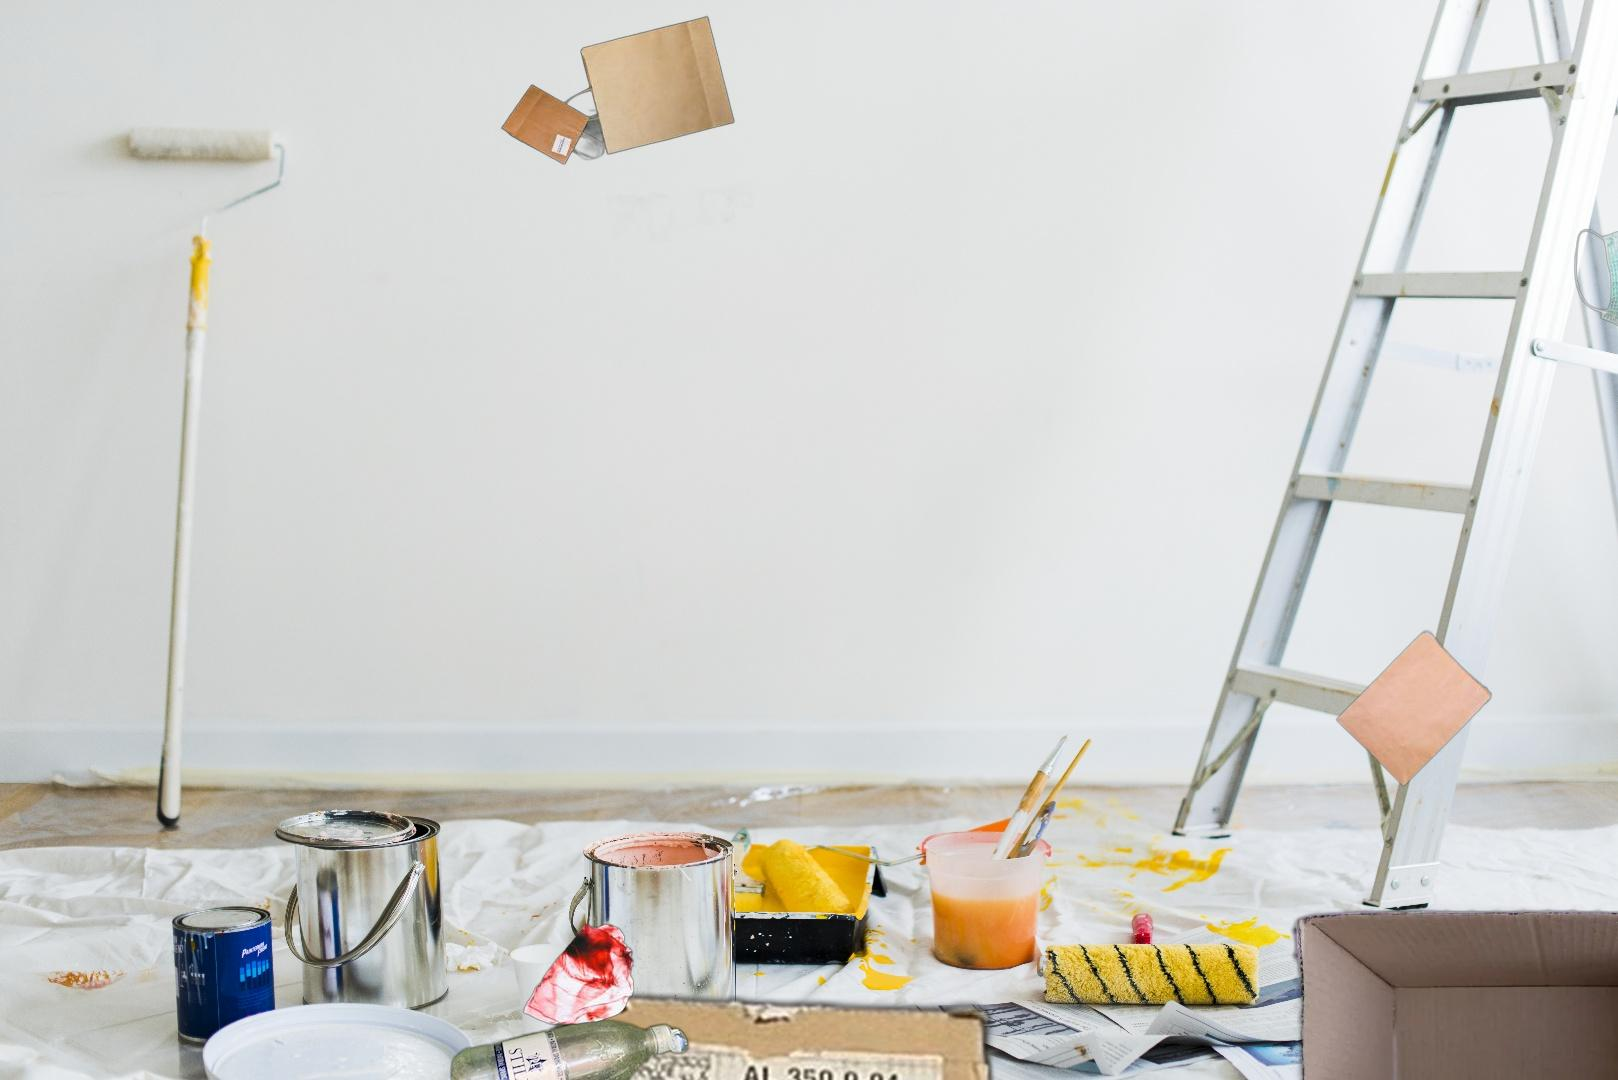paper-bag: (499, 13, 757, 265), (1335, 628, 1493, 790)
plastic-bag: (520, 921, 637, 1028)
plastic-bottles: (447, 1012, 692, 1080)
trash: (1572, 199, 1618, 370)
trashbox-cardboard: (8, 973, 1208, 1080), (1285, 856, 1618, 1080)
